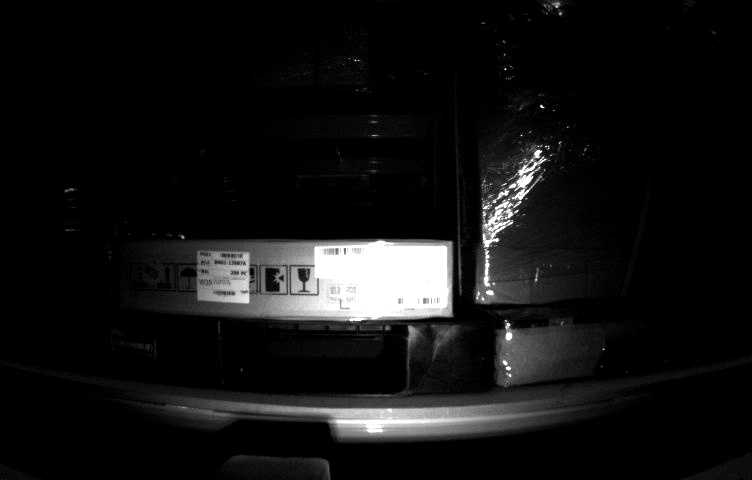True Barcode: (196, 248, 248, 304)
